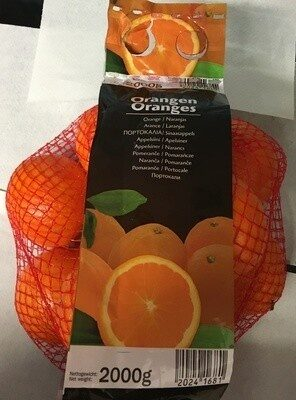Naranjas: (15, 20, 281, 380)
